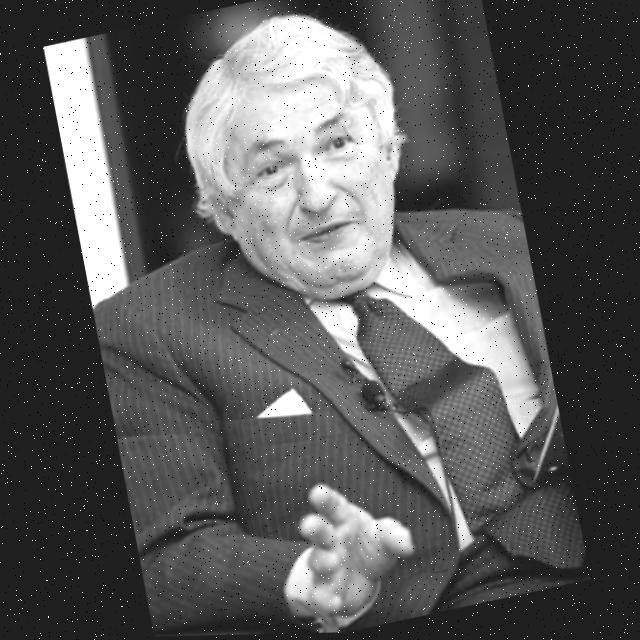face: (193, 32, 429, 332)
